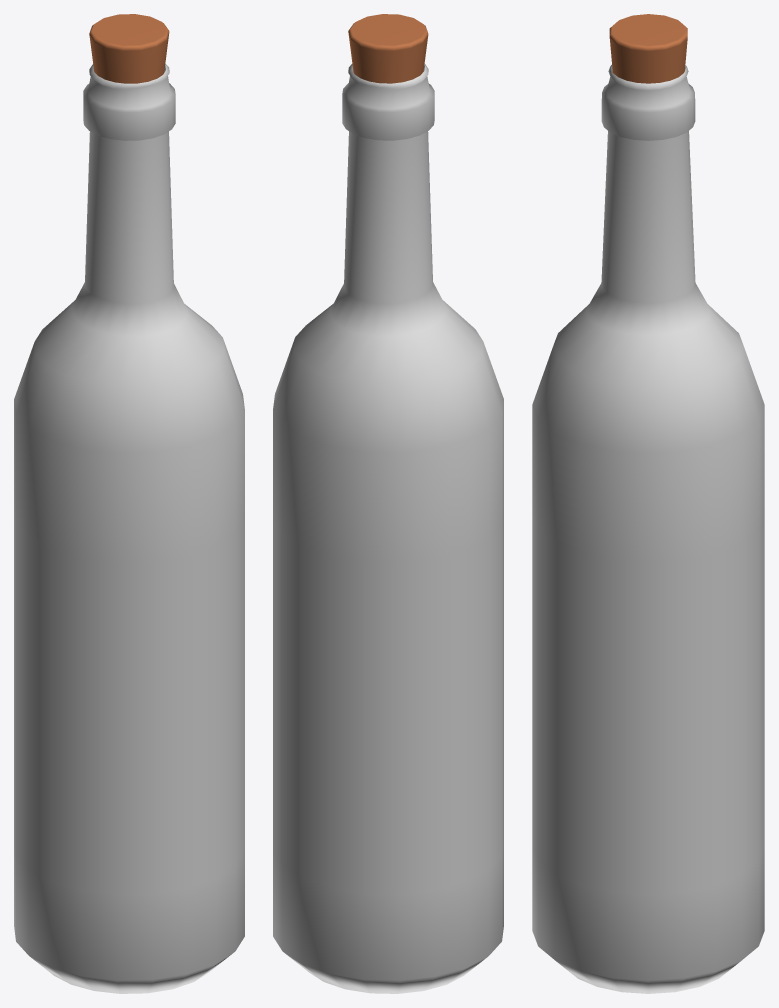
File: Bottle.fbx
3 renders of one model, left to right at view 1: azimuth 30°, elevation 25°; view 2: azimuth 150°, elevation 25°; view 3: azimuth 270°, elevation 25°, orthographic.
Visible parts, largest first — view 1: Bottle; view 2: Bottle; view 3: Bottle.
Part boxes in pixels (<box>): Bottle: <box>14,14,244,993</box>; Bottle: <box>273,14,503,993</box>; Bottle: <box>532,14,764,993</box>.
Size of the model in its own units: 0.1649 by 0.7274 by 0.1649.
